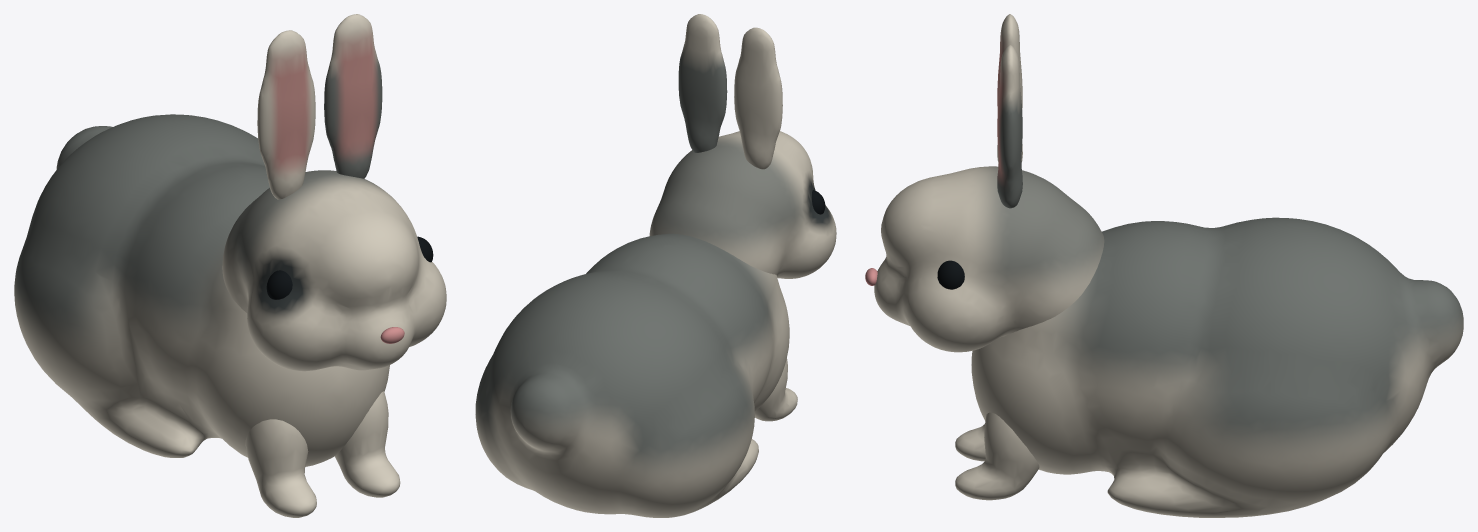
The model's file is rabbit.glb.
The picture shows the model from 3 angles, left to right: view 1: azimuth 30°, elevation 25°; view 2: azimuth 150°, elevation 25°; view 3: azimuth 270°, elevation 25°; orthographic projection. The views are drawn at different scales.
Visible parts, largest first — view 1: body, head, legs_front, ear_L, ear_R, eye_L; view 2: body, head, ear_L, ear_R, legs_front; view 3: body, head, legs_front, ear_R, ear_L.
Boxes of the visible parts, <box> form: body: <box>14,114,389,466</box>; head: <box>222,170,446,371</box>; legs_front: <box>245,391,400,517</box>; ear_L: <box>257,30,315,199</box>; ear_R: <box>324,14,382,178</box>; eye_L: <box>266,270,292,299</box>; body: <box>475,233,789,517</box>; head: <box>649,131,836,278</box>; ear_L: <box>734,27,782,169</box>; ear_R: <box>678,14,727,152</box>; legs_front: <box>754,358,797,421</box>; body: <box>971,217,1463,517</box>; head: <box>874,166,1104,352</box>; legs_front: <box>955,412,1039,500</box>; ear_R: <box>997,45,1022,208</box>; ear_L: <box>997,14,1022,162</box>.
Bounding box in the file's own units: 0.2773 × 0.4322 × 0.5249.
